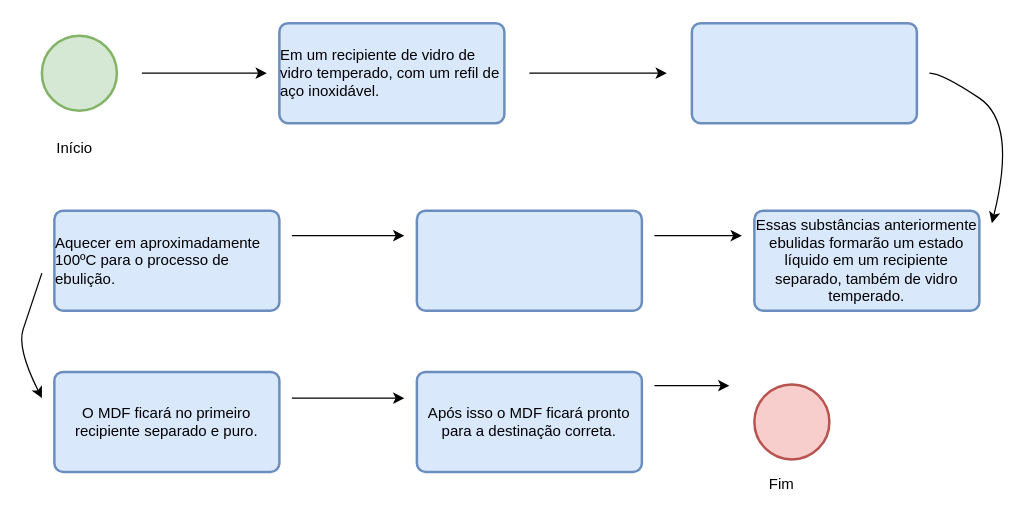
This 1025x518 diagram has some shape labels left out. Here are the shapes that lost their labels. From the top down, the centre of each, then its label:
At (x=804, y=72): "Neste mesmo recipiente deve ser colocado água e o material de MDF.".
At (x=528, y=260): "Nesse processo a água e o formol ebulirão.".
